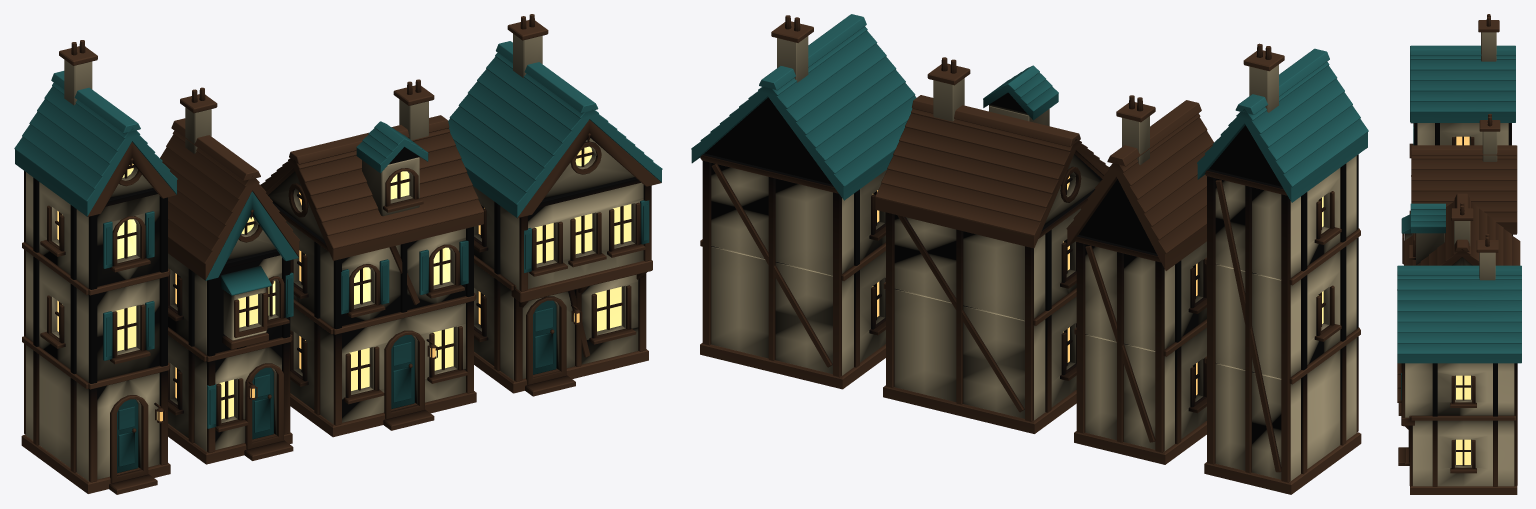
Rendered from town_houses.glb.
3 views of the same model, side by side, from view 1: azimuth 30°, elevation 25°; view 2: azimuth 150°, elevation 25°; view 3: azimuth 270°, elevation 25° (orthographic). The views are drawn at different scales.
Parts seen in each view (by area): view 1: TownHouse_Tall, TownHouse_Cottage, TownHouse_Jetty, TownHouse_Corner; view 2: TownHouse_Cottage, TownHouse_Tall, TownHouse_Jetty, TownHouse_Corner; view 3: TownHouse_Jetty, TownHouse_Tall, TownHouse_Corner, TownHouse_Cottage.
Part boxes in pixels (x1=…): TownHouse_Tall: x1=14, y1=40, x2=177, y2=494; TownHouse_Cottage: x1=260, y1=79, x2=483, y2=437; TownHouse_Jetty: x1=448, y1=14, x2=662, y2=396; TownHouse_Corner: x1=160, y1=87, x2=299, y2=464; TownHouse_Cottage: x1=875, y1=57, x2=1109, y2=433; TownHouse_Tall: x1=1197, y1=43, x2=1368, y2=494; TownHouse_Jetty: x1=691, y1=14, x2=916, y2=389; TownHouse_Corner: x1=1066, y1=95, x2=1213, y2=464; TownHouse_Jetty: x1=1397, y1=234, x2=1521, y2=494; TownHouse_Tall: x1=1409, y1=14, x2=1515, y2=213; TownHouse_Corner: x1=1401, y1=113, x2=1517, y2=265; TownHouse_Cottage: x1=1398, y1=193, x2=1520, y2=415.
Size of the model in its own units: 0.2788 by 0.1894 by 0.0727.
